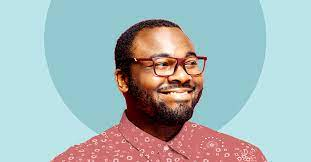g.y: (152, 56, 175, 79)
